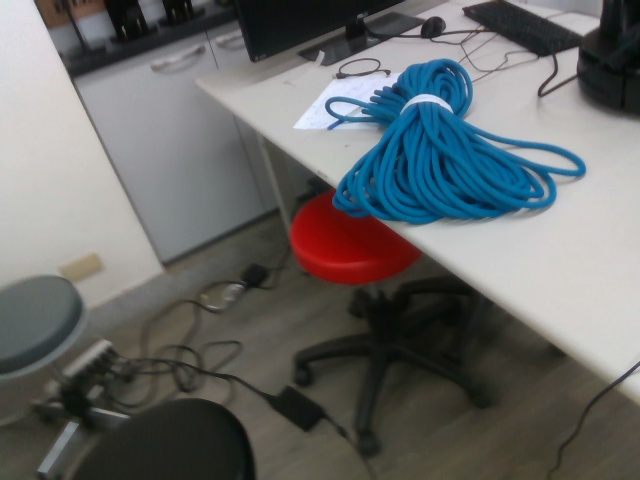rope: (327, 57, 593, 227)
